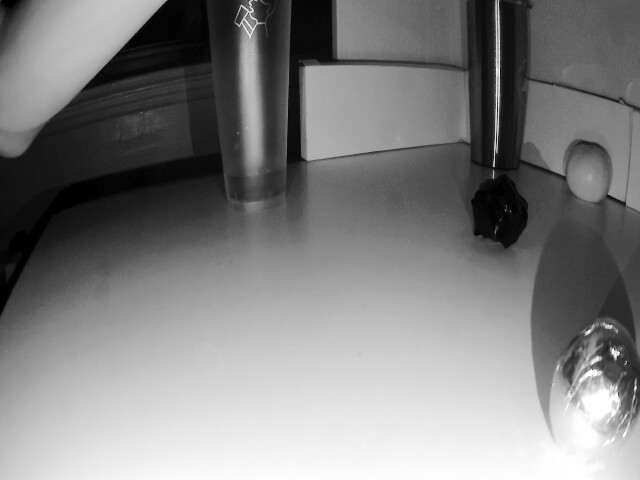black: (552, 321, 640, 460)
silver: (469, 176, 527, 256)
